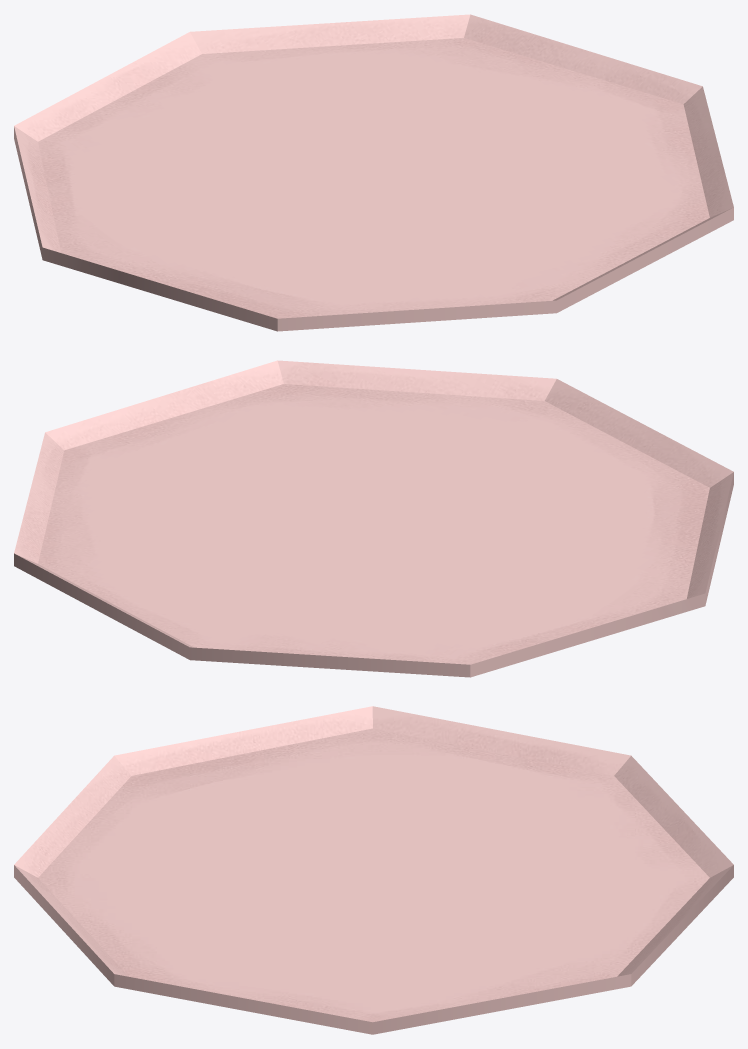
File: Plato_Model.fbx
The picture shows the model from 3 angles, top to bottom: view 1: azimuth 30°, elevation 25°; view 2: azimuth 150°, elevation 25°; view 3: azimuth 270°, elevation 25°; orthographic projection.
Visible parts, largest first — view 1: PlatoRedondo; view 2: PlatoRedondo; view 3: PlatoRedondo.
Part boxes in pixels (box(x1,y1,x2,y2)): PlatoRedondo: box(14, 14, 733, 331); PlatoRedondo: box(14, 360, 733, 677); PlatoRedondo: box(14, 706, 733, 1034).
Bounding box in the file's own units: 1.45 × 0.057 × 1.39.
